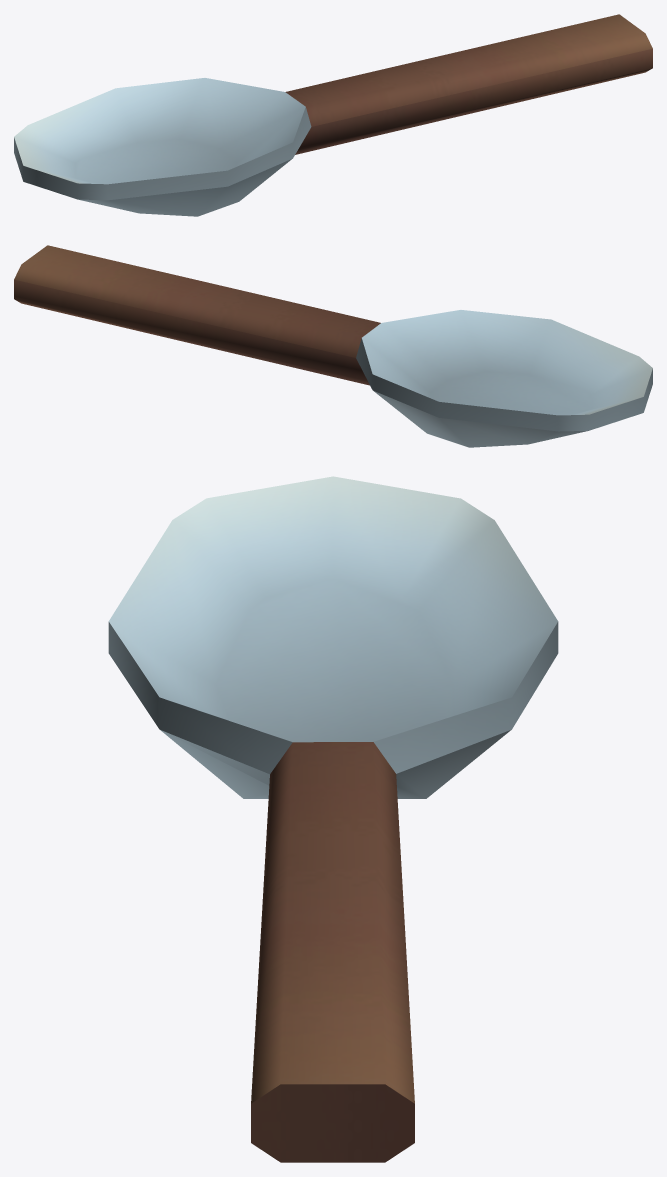
The model's file is spoon_cuttlery_wood_metal.fbx.
3 views of the same model, one above another, from view 1: azimuth 30°, elevation 25°; view 2: azimuth 150°, elevation 25°; view 3: azimuth 270°, elevation 25° (orthographic). The views are drawn at different scales.
Parts seen in each view (by area): view 1: spoon_cuttlery_wood_metal; view 2: spoon_cuttlery_wood_metal; view 3: spoon_cuttlery_wood_metal.
Boxes of the visible parts, box(x1,y1,x2,y2) form: spoon_cuttlery_wood_metal: box(14, 14, 652, 216); spoon_cuttlery_wood_metal: box(14, 245, 652, 447); spoon_cuttlery_wood_metal: box(108, 476, 558, 1162).
Bounding box in the file's own units: 36.83 × 3.88 × 11.77.
